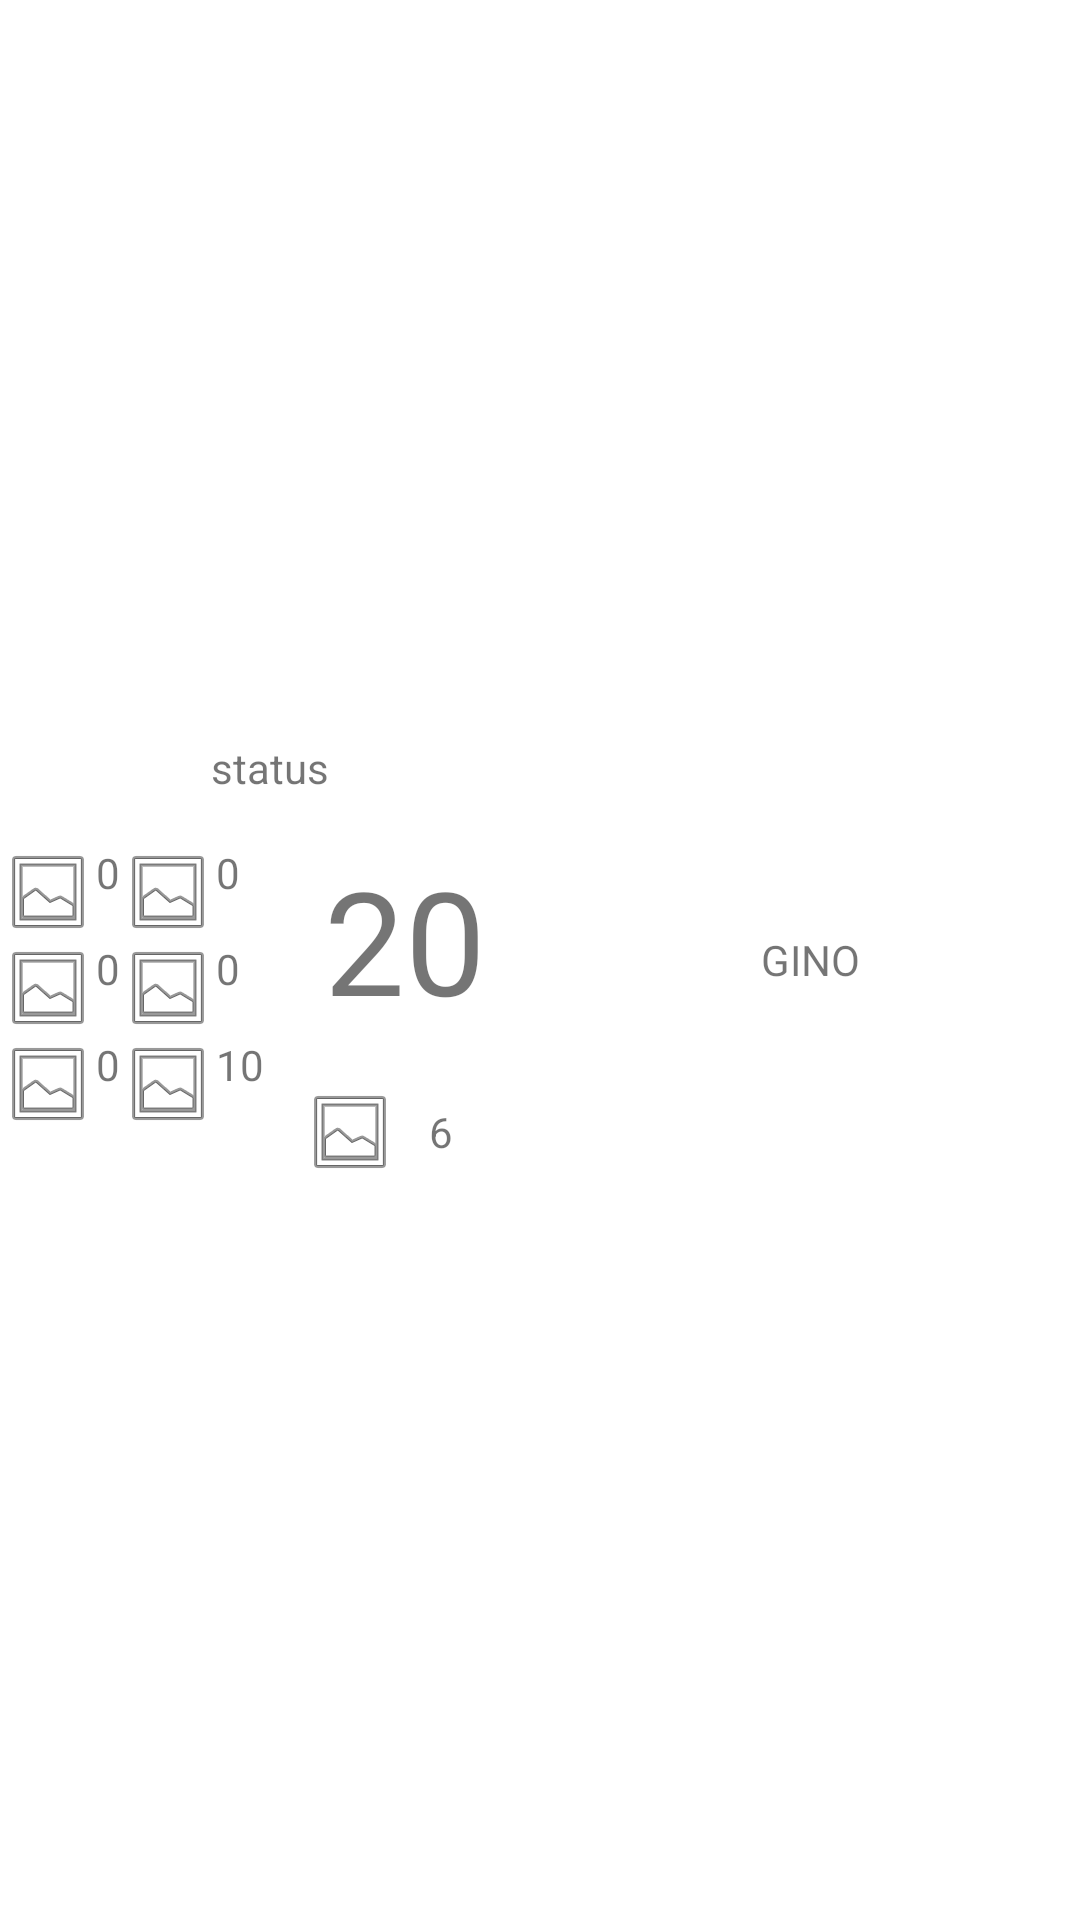

Icon click points for this 1080*1920 phone screenshot, format [x,y]:
gallery: [48,892], [168,892], [48,988], [168,988], [48,1084], [168,1084], [350,1132]
